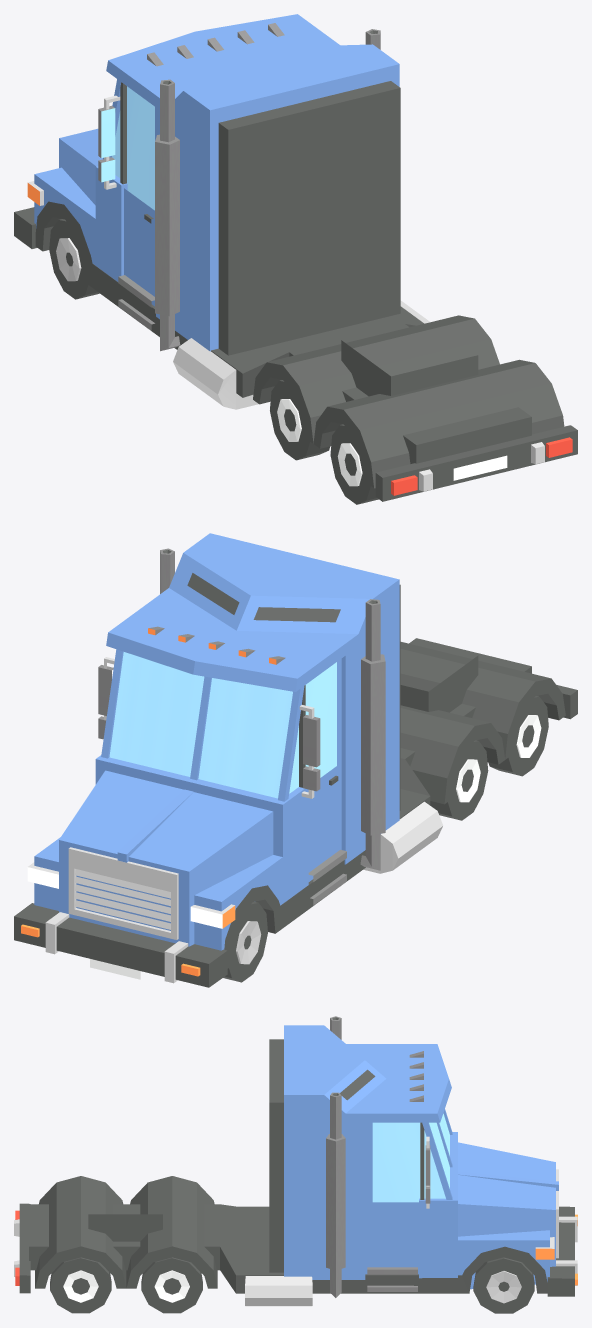
Rendered from transport_truck.glb.
3 renders of one model, top to bottom at view 1: azimuth 30°, elevation 25°; view 2: azimuth 150°, elevation 25°; view 3: azimuth 270°, elevation 25°, orthographic. The views are drawn at different scales.
Parts seen in each view (by area): view 1: transport_truck(Clone); view 2: transport_truck(Clone); view 3: transport_truck(Clone).
Part boxes in pixels (left/top/right/bottom): transport_truck(Clone): left=14, top=14, right=577, bottom=504; transport_truck(Clone): left=14, top=533, right=577, bottom=987; transport_truck(Clone): left=14, top=1016, right=577, bottom=1313.
Bounding box in the file's own units: 2.13 × 2.63 × 5.99.
Materials: 1 (1 with a texture image).
